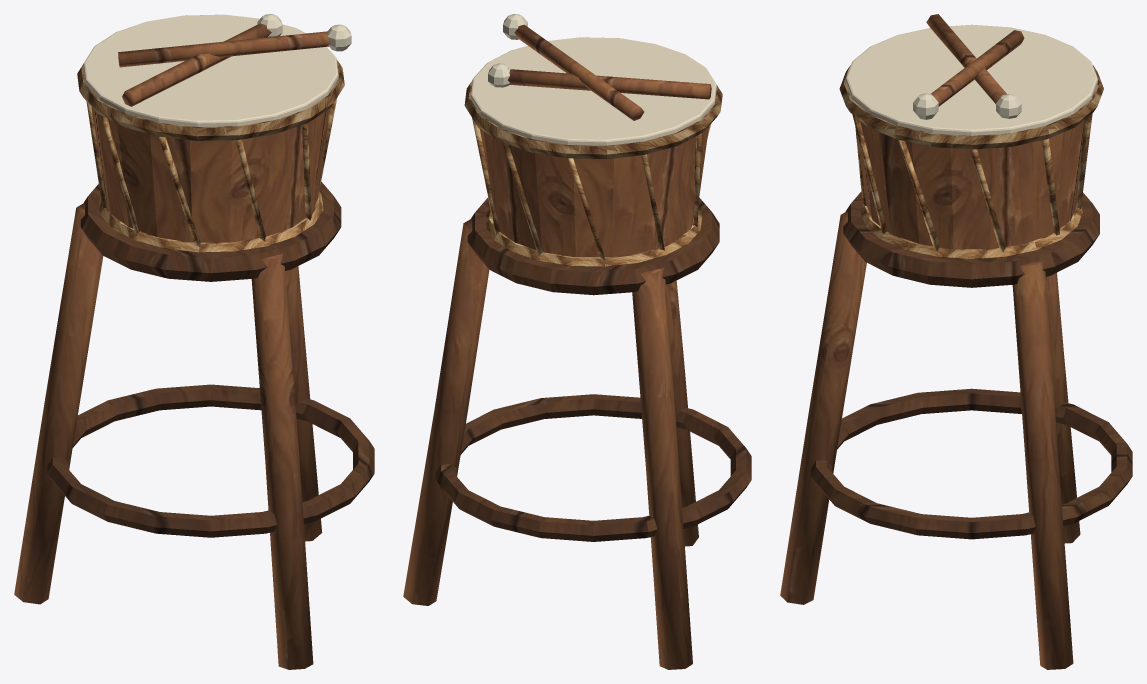
The model's file is drum_music_stand.glb.
3 views of the same model, side by side, from view 1: azimuth 30°, elevation 25°; view 2: azimuth 150°, elevation 25°; view 3: azimuth 270°, elevation 25° (orthographic). The views are drawn at different scales.
Visible parts, largest first — view 1: model; view 2: model; view 3: model.
Boxes of the visible parts, box(x1,y1,x2,y2) form: model: box(14, 14, 374, 669); model: box(403, 14, 751, 669); model: box(780, 14, 1132, 669).
Bounding box in the file's own units: 0.4948 × 0.9069 × 0.5197.
Materials: 9 (7 with a texture image).
